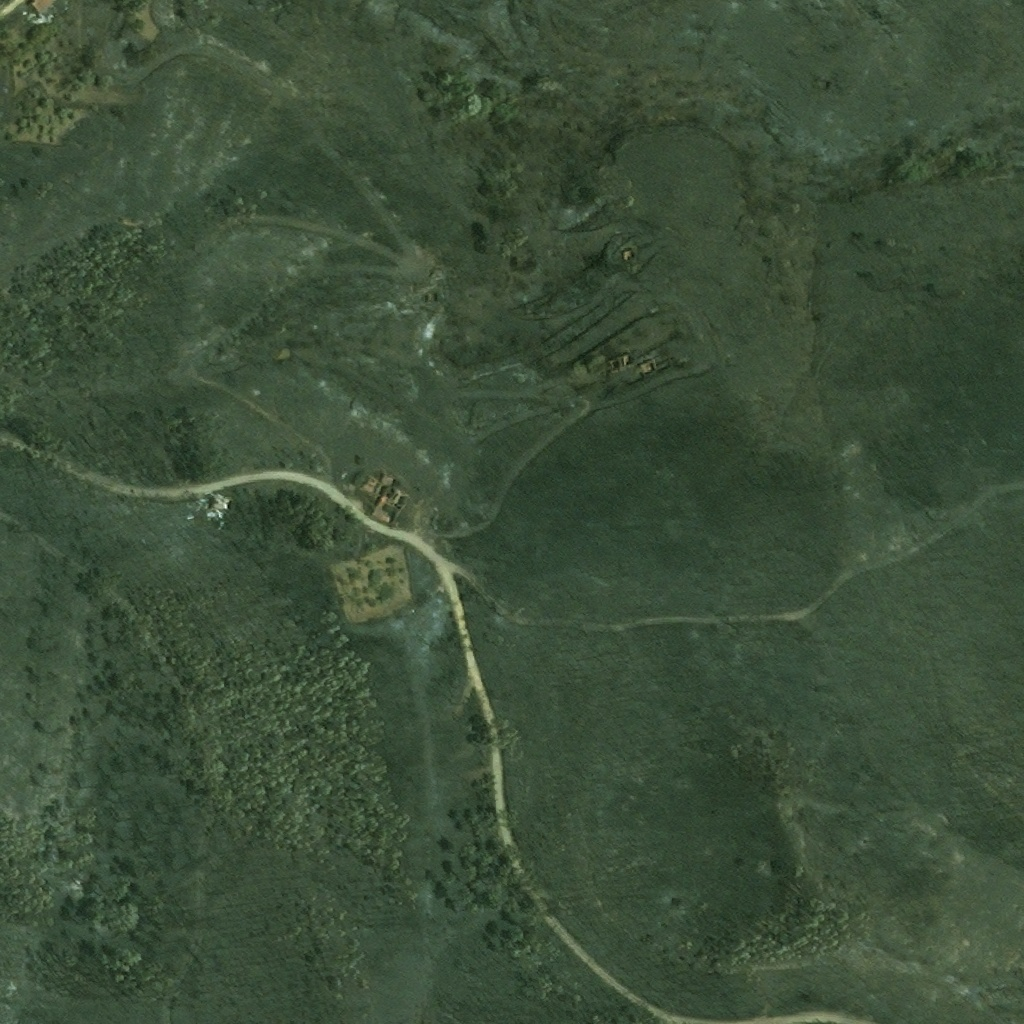3 destroyed: (364, 473, 408, 514), (28, 0, 61, 22), (211, 496, 236, 510), (618, 246, 635, 262)
